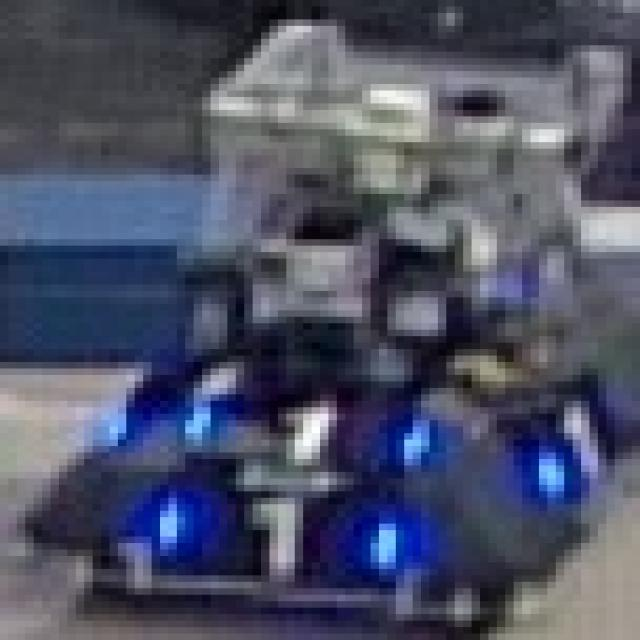B1: (143, 485, 404, 575), (177, 394, 438, 466)
